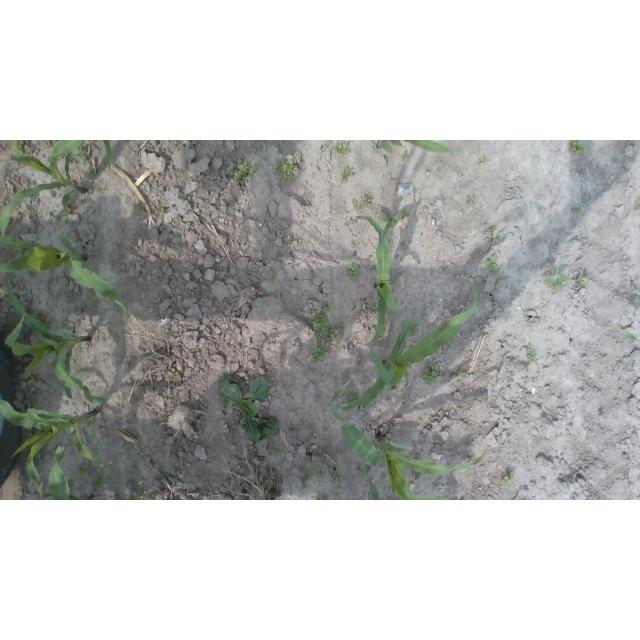Maize: (320, 276, 478, 413), (329, 380, 485, 500), (1, 272, 106, 408), (0, 233, 130, 321), (0, 398, 108, 496), (1, 140, 86, 237), (355, 215, 396, 342), (48, 444, 88, 500), (376, 140, 452, 154), (377, 209, 414, 237), (98, 140, 112, 176), (367, 479, 385, 500), (617, 329, 640, 344)
Weeds: (217, 372, 279, 441), (307, 313, 343, 342), (544, 263, 570, 293), (230, 162, 258, 183), (277, 157, 300, 182), (420, 360, 440, 386), (70, 145, 88, 163), (352, 195, 372, 211), (304, 465, 325, 478), (90, 472, 105, 490), (486, 254, 498, 275), (308, 348, 324, 363), (334, 142, 351, 156), (32, 307, 45, 325), (77, 460, 89, 479), (345, 266, 360, 281), (500, 472, 516, 486), (407, 321, 420, 338), (11, 141, 25, 156), (345, 389, 359, 403), (355, 463, 369, 477), (330, 472, 344, 485), (572, 140, 585, 154), (342, 165, 354, 180), (457, 366, 470, 379), (483, 225, 498, 234), (84, 164, 95, 176), (321, 302, 332, 314), (61, 205, 72, 216), (263, 479, 273, 491), (272, 446, 284, 456), (133, 490, 144, 500), (573, 205, 583, 216), (527, 353, 537, 364), (46, 319, 54, 332), (465, 195, 475, 205), (268, 270, 276, 282), (578, 277, 588, 286), (170, 368, 178, 379), (156, 205, 164, 216), (135, 382, 145, 390), (400, 151, 408, 161), (344, 220, 357, 226), (286, 235, 293, 245), (301, 480, 308, 489), (465, 457, 474, 464), (98, 184, 105, 193), (482, 156, 489, 164), (484, 237, 492, 244), (634, 202, 640, 211), (52, 447, 57, 457), (287, 484, 293, 491), (319, 496, 329, 500), (600, 413, 605, 420), (527, 343, 532, 349), (136, 448, 141, 452), (272, 334, 276, 339), (116, 496, 120, 500)
